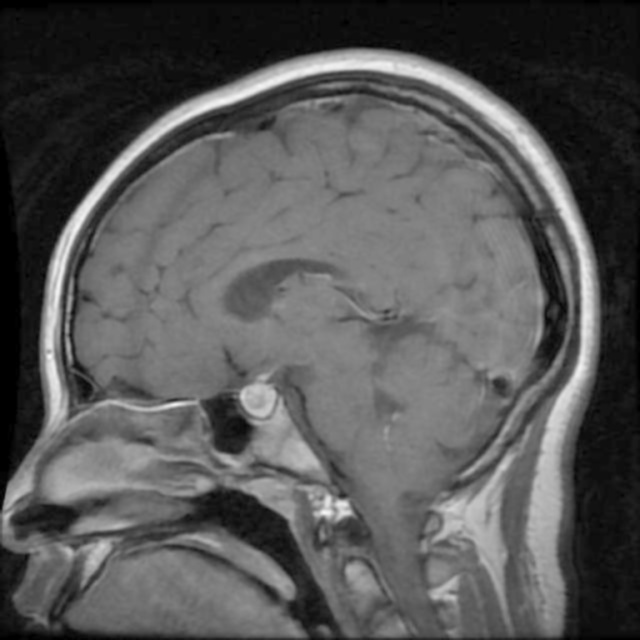no tumor: (234, 375, 288, 420)
